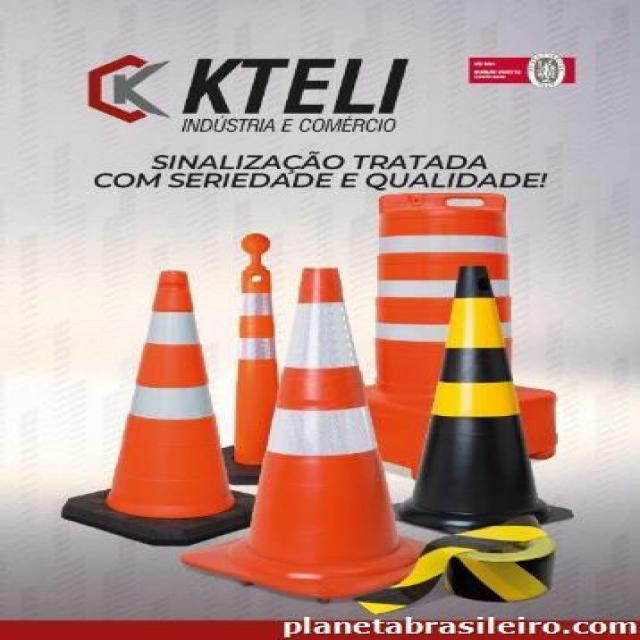cone: (231, 263, 419, 581), (89, 278, 248, 535)
